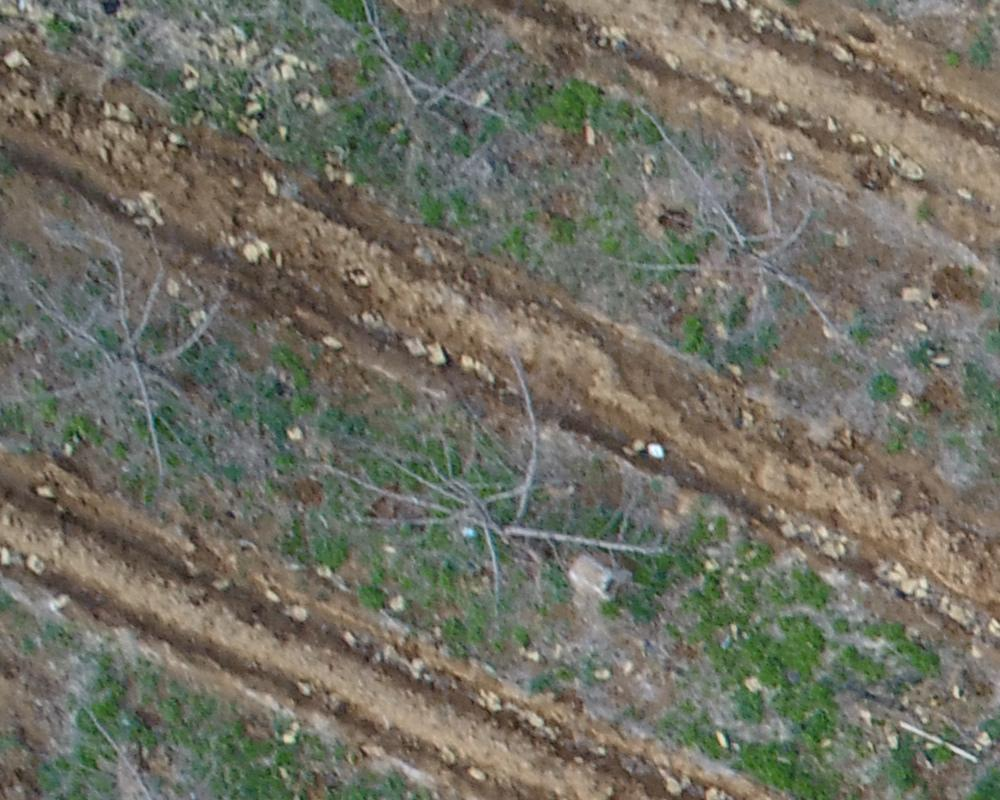apple: (337, 343, 679, 607), (11, 222, 263, 481), (623, 107, 863, 357), (332, 10, 528, 151), (40, 701, 270, 790)
